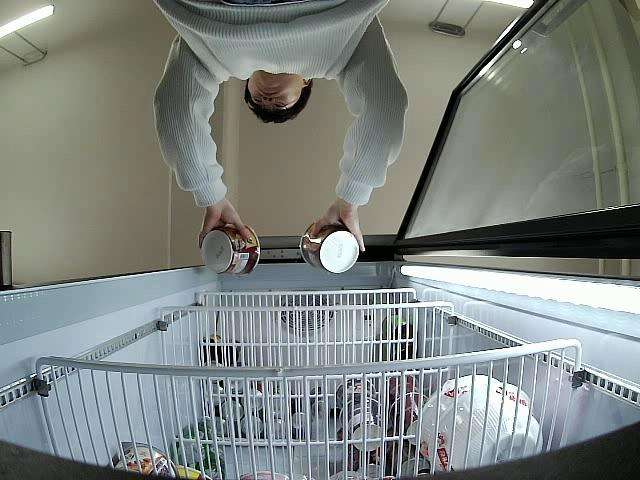00_hand: (315, 196, 367, 254), (197, 204, 255, 248)
05_nuguri_L: (203, 223, 261, 278), (299, 222, 360, 274)
